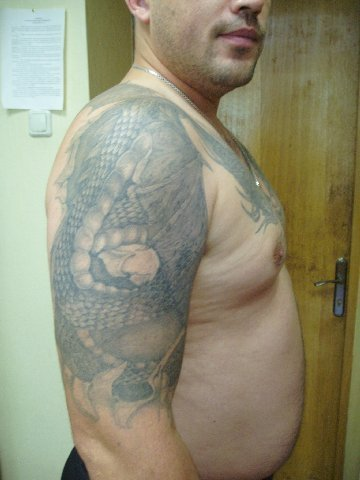tatu6_drakon: (54, 78, 217, 432)
